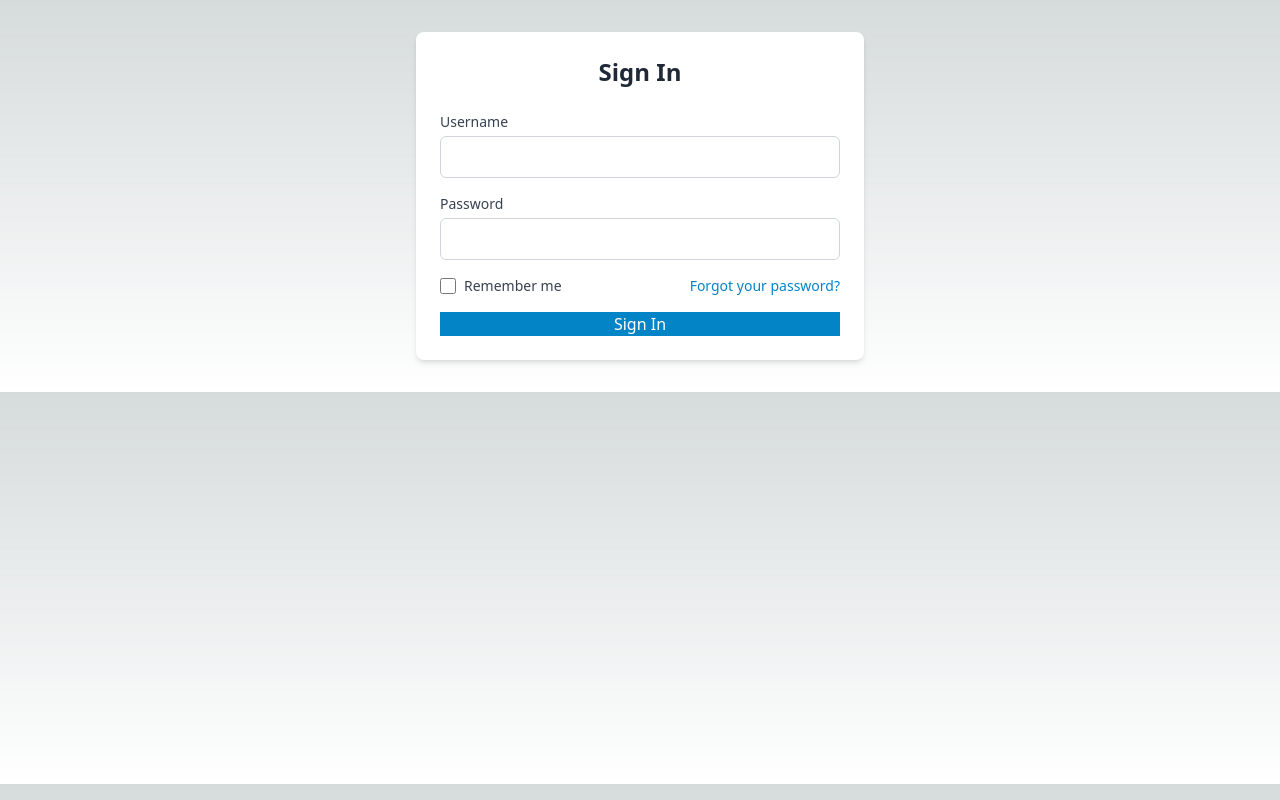
Test case: LoginForm › displays general error message on failed login
Step 1. Type "testuser" into the field with test id "username-input" → (640, 157), box top-left (440, 136), bottom-right (840, 178)
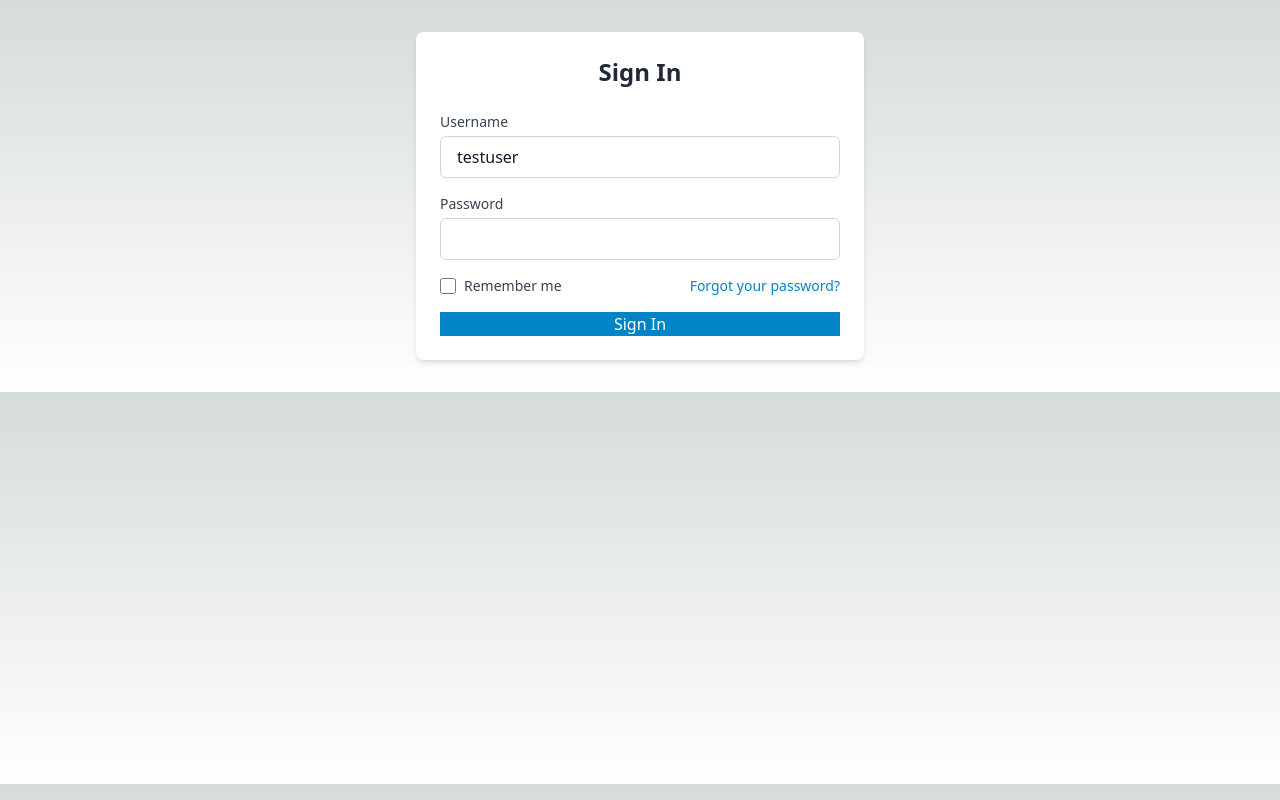
Step 2. Type "wrongpassword" into the password field with test id "password-input" → (640, 239), box top-left (440, 218), bottom-right (840, 260)
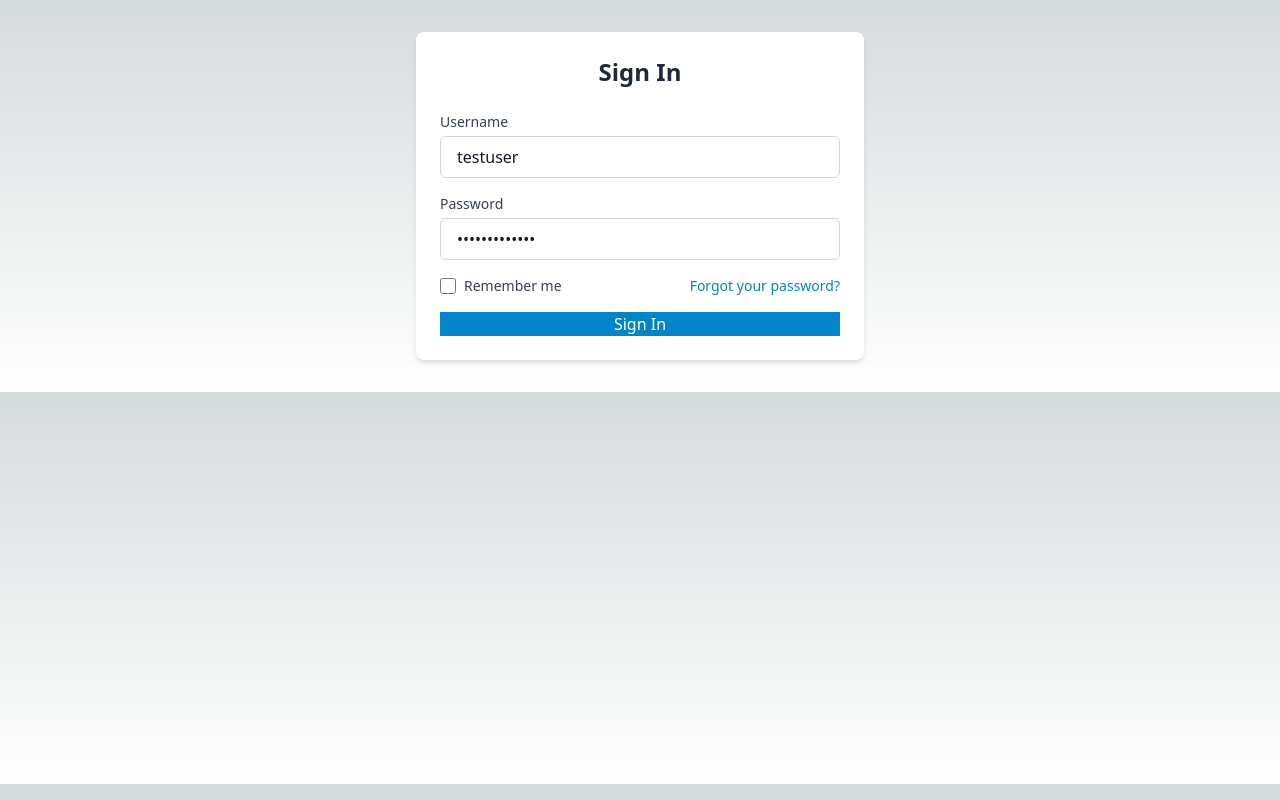
Step 3. Click the button with test id "login-button" → click(640, 324), box top-left (440, 312), bottom-right (840, 336)
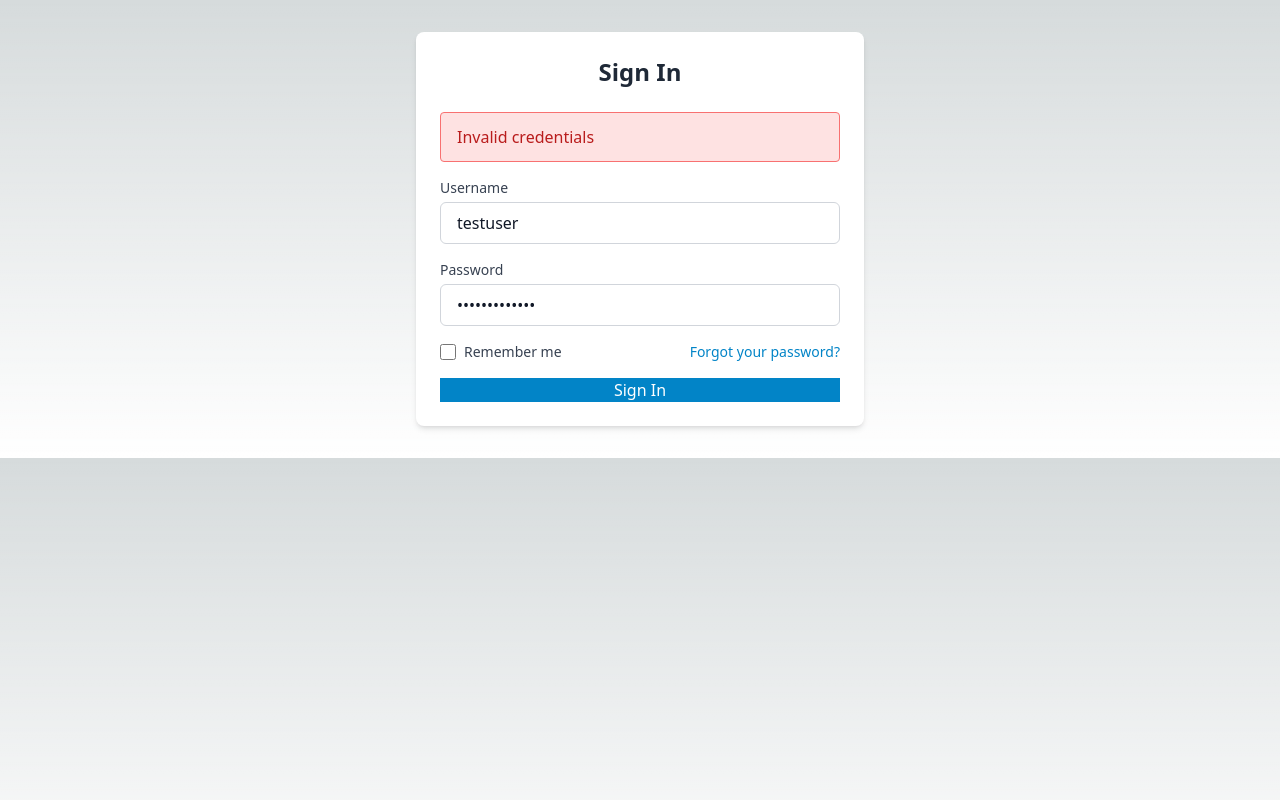
Result: the text "Invalid credentials" is shown at top-left (440, 112), bottom-right (840, 162)
Result: the text with test id "login-error-general" reads "Invalid credentials" at top-left (457, 126), bottom-right (594, 148)
